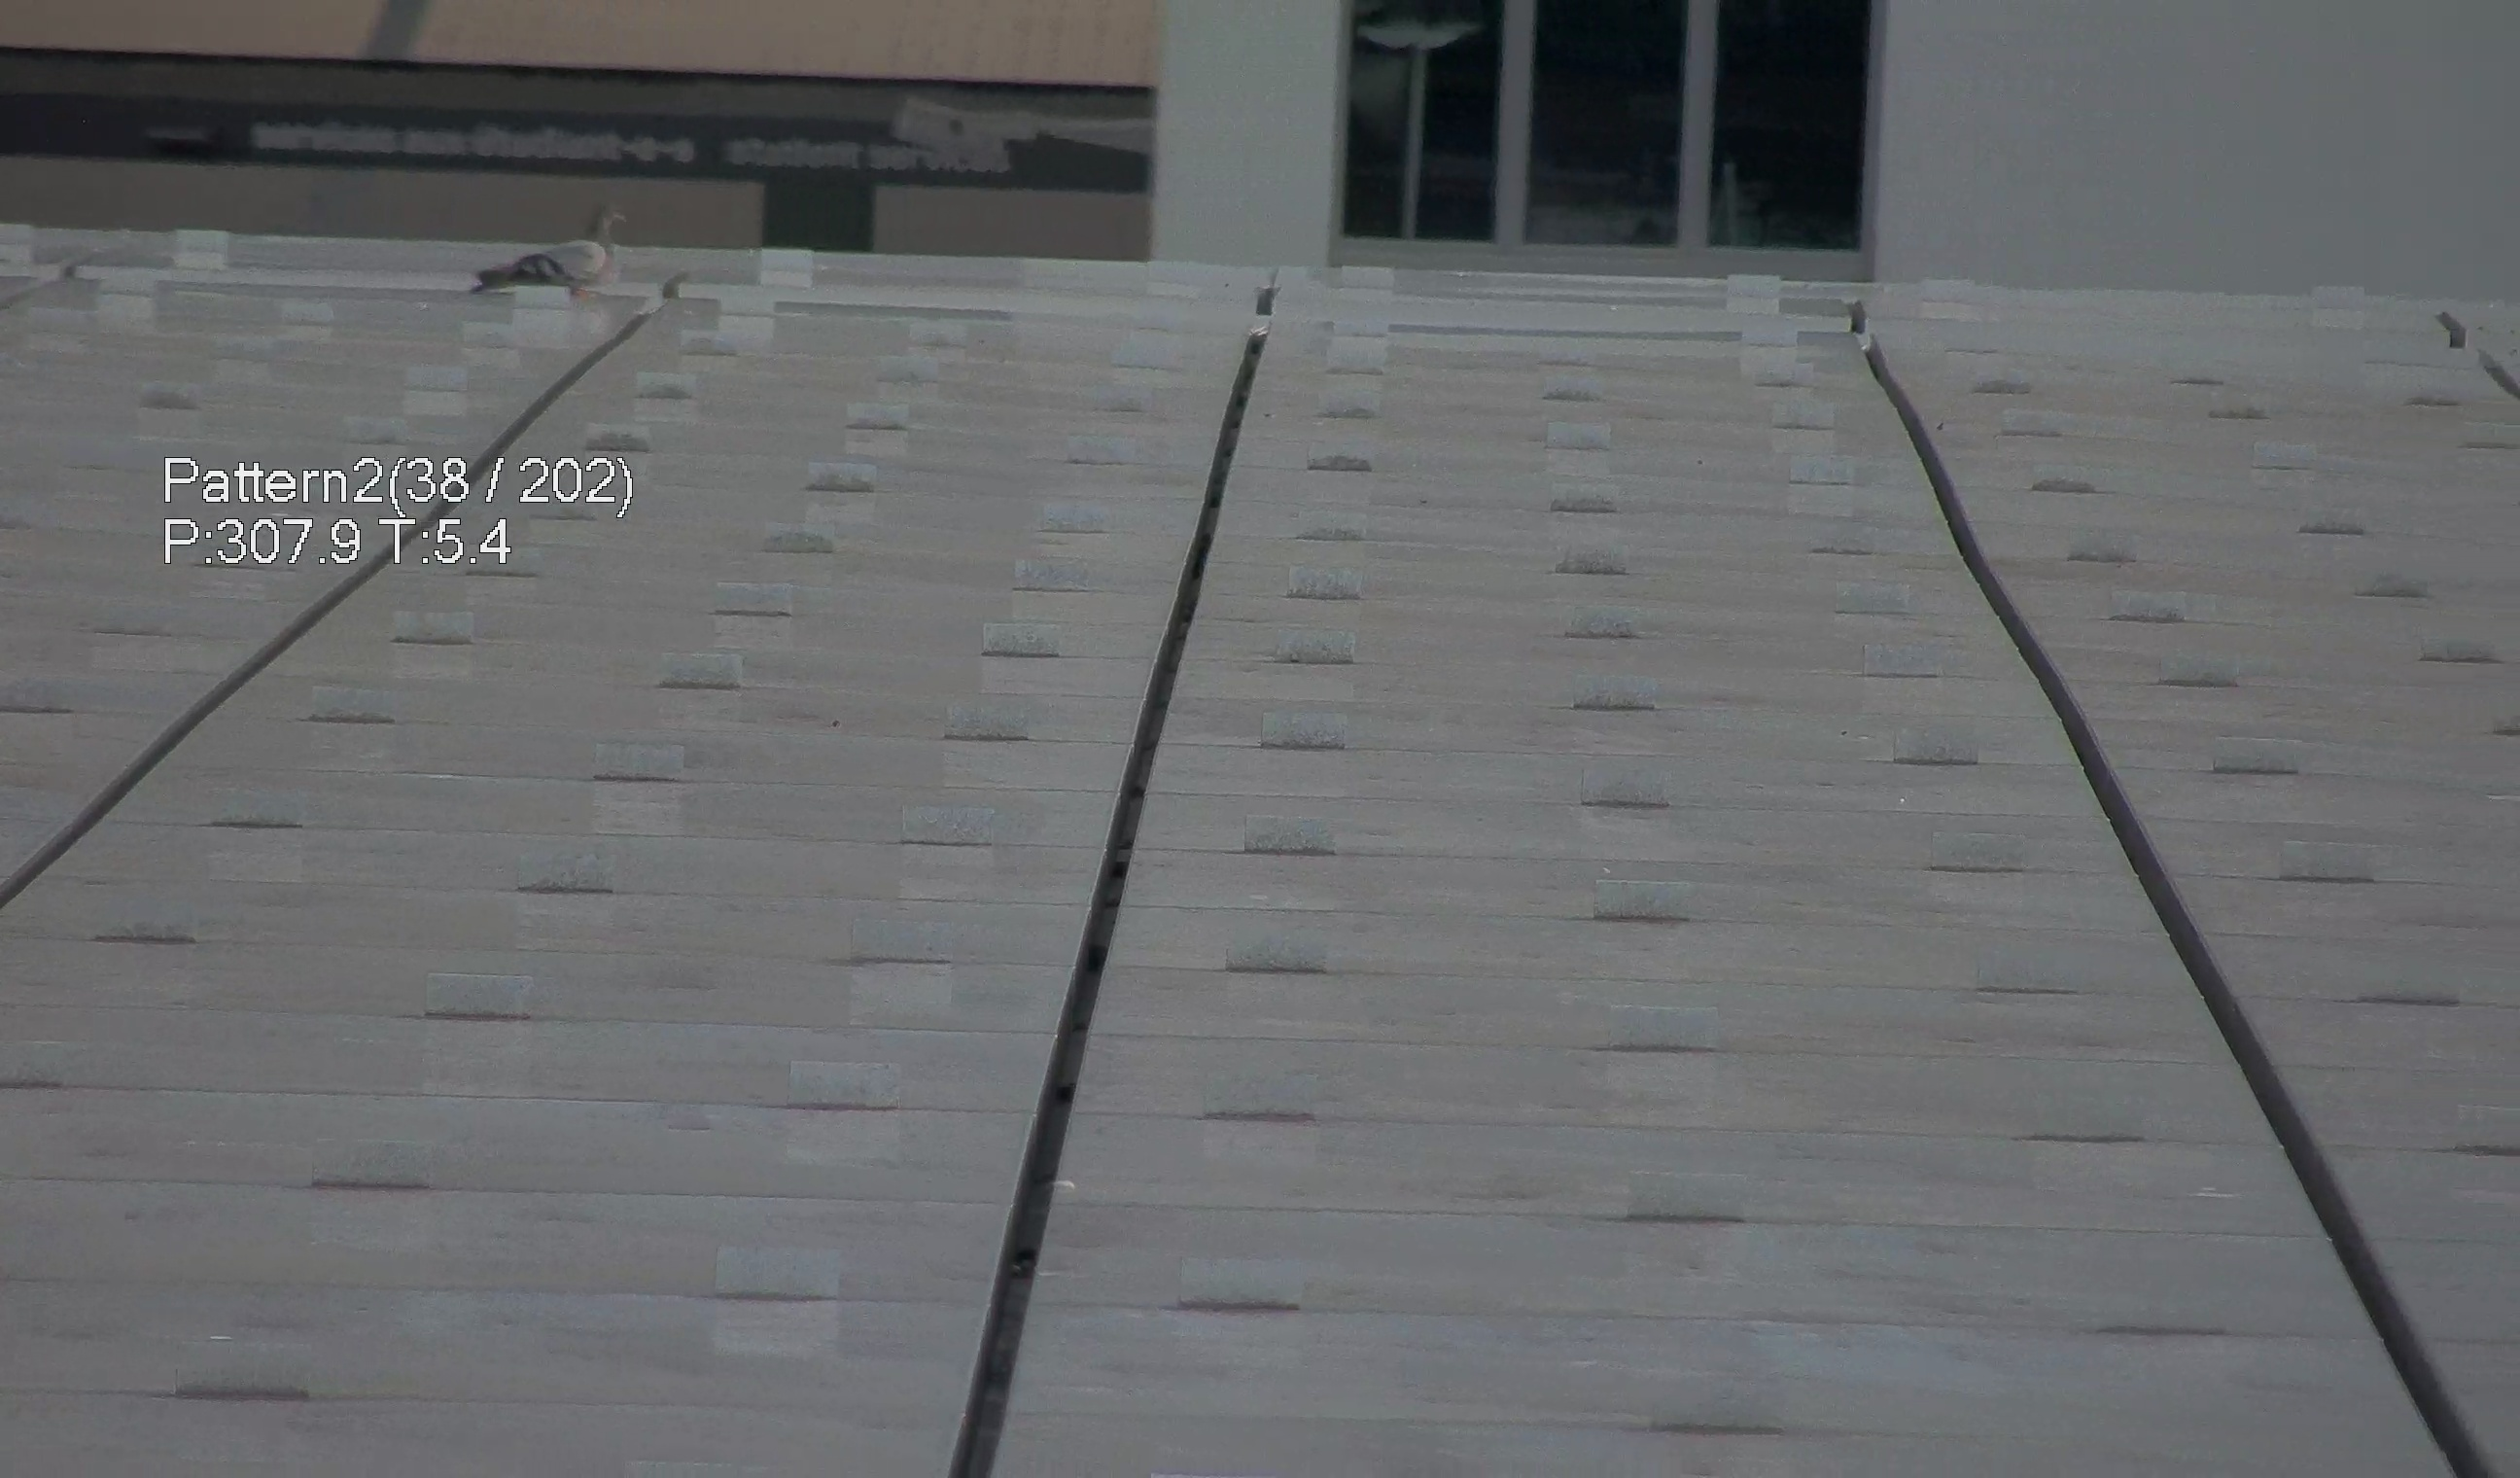Pigeon: (454, 211, 614, 290)
